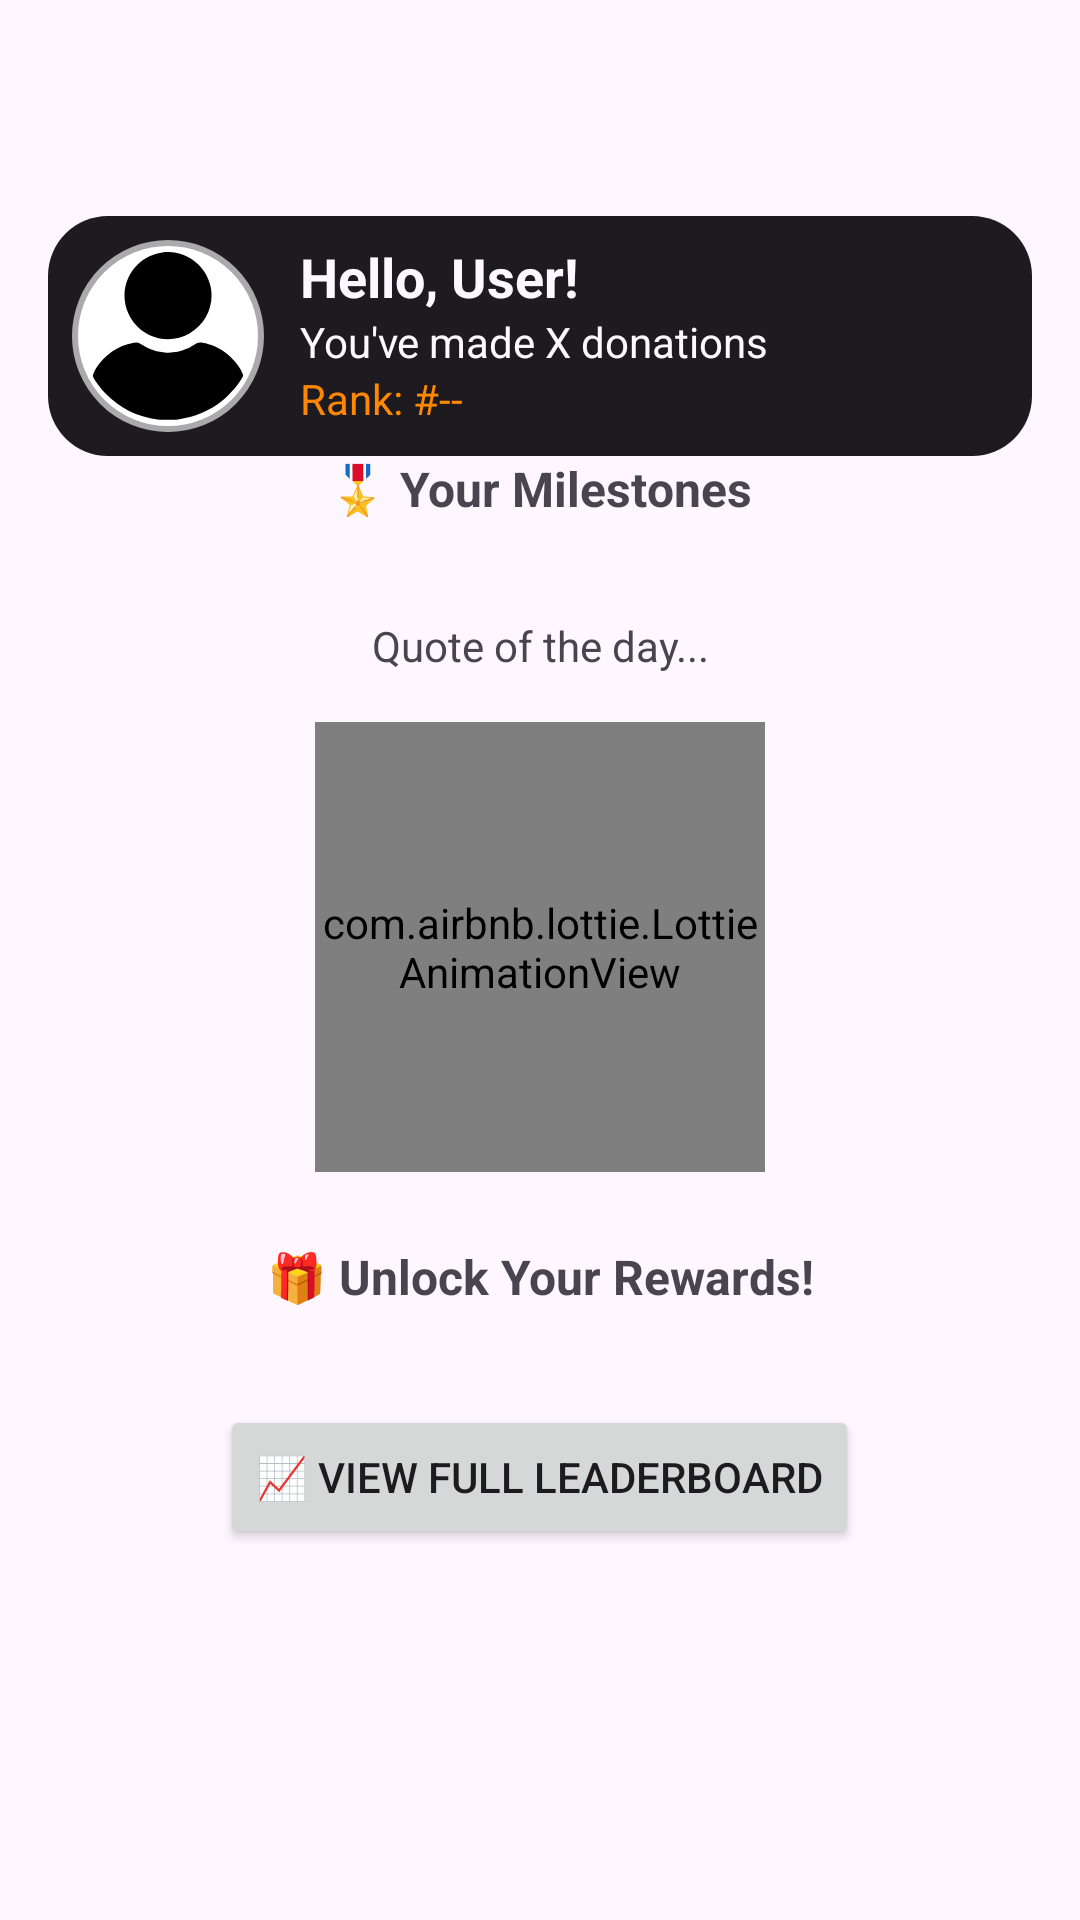

Named icons in this screenshot (1080x1920) and their bounding boxes, (x1, y1, x2, y2):
profile: (72, 240, 264, 432)
